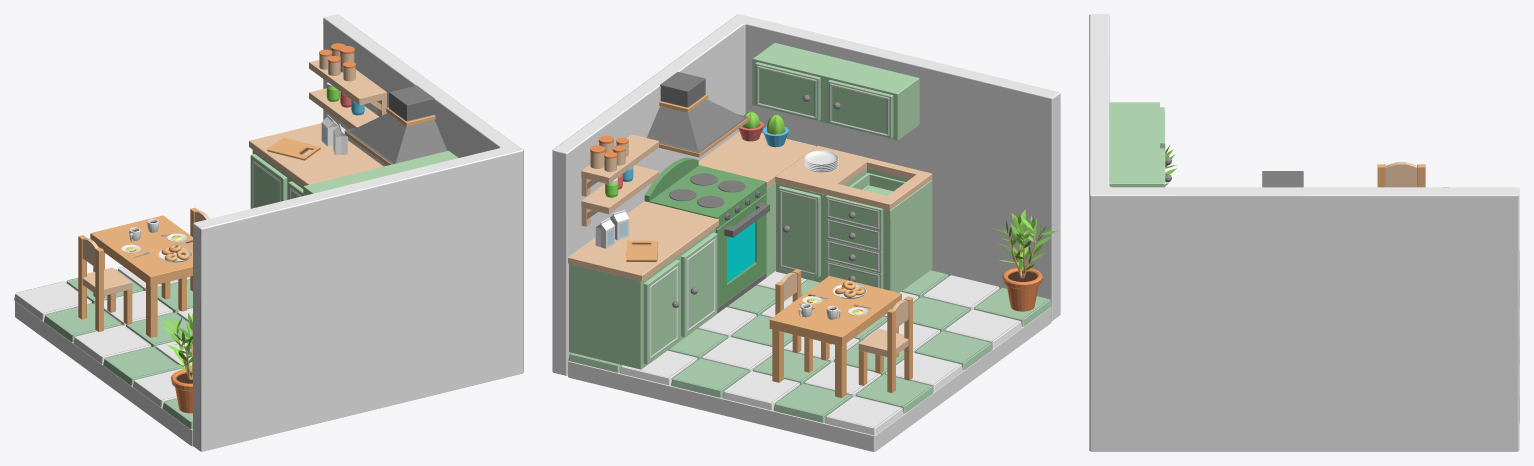
The model's file is kitchenRoom.glb.
3 renders of one model, left to right at view 1: azimuth 30°, elevation 25°; view 2: azimuth 150°, elevation 25°; view 3: azimuth 270°, elevation 25°, orthographic. The views are drawn at different scales.
Visible parts, largest first — view 1: Room, Kitchen_set_01, Hood, Table, Shelves, Chair_02, Plant, Cupboard, Chair_01, Board, Milk; view 2: Room, Kitchen_set_03, Kitchen_set_01, Cupboard, Stove, Table, Hood, Shelves, Kitchen_set_02, Chair_02, Plant, Chair_01 (+4 smaller); view 3: Room, Cupboard, Chair_02, Hood.
Part boxes in pixels (x1,y1,x2,y2): Room: [14, 14, 523, 451]; Kitchen_set_01: [249, 123, 383, 208]; Hood: [344, 85, 447, 165]; Table: [90, 215, 192, 337]; Shelves: [309, 43, 386, 128]; Chair_02: [78, 235, 132, 331]; Plant: [162, 313, 192, 413]; Cupboard: [303, 151, 458, 195]; Chair_01: [161, 207, 209, 311]; Board: [267, 137, 320, 160]; Milk: [321, 115, 347, 155]; Room: [552, 14, 1060, 451]; Kitchen_set_03: [775, 145, 932, 292]; Kitchen_set_01: [568, 201, 718, 369]; Cupboard: [752, 43, 919, 140]; Stove: [644, 157, 769, 313]; Table: [769, 276, 901, 397]; Hood: [646, 72, 749, 157]; Shelves: [581, 134, 658, 226]; Kitchen_set_02: [698, 132, 815, 277]; Chair_02: [858, 296, 912, 392]; Plant: [994, 209, 1057, 311]; Chair_01: [775, 269, 829, 372]; Room: [1089, 14, 1519, 451]; Cupboard: [1109, 102, 1171, 187]; Chair_02: [1377, 162, 1425, 187]; Hood: [1262, 171, 1303, 187].
Size of the model in its own units: 7.26 by 4.62 by 6.98.
